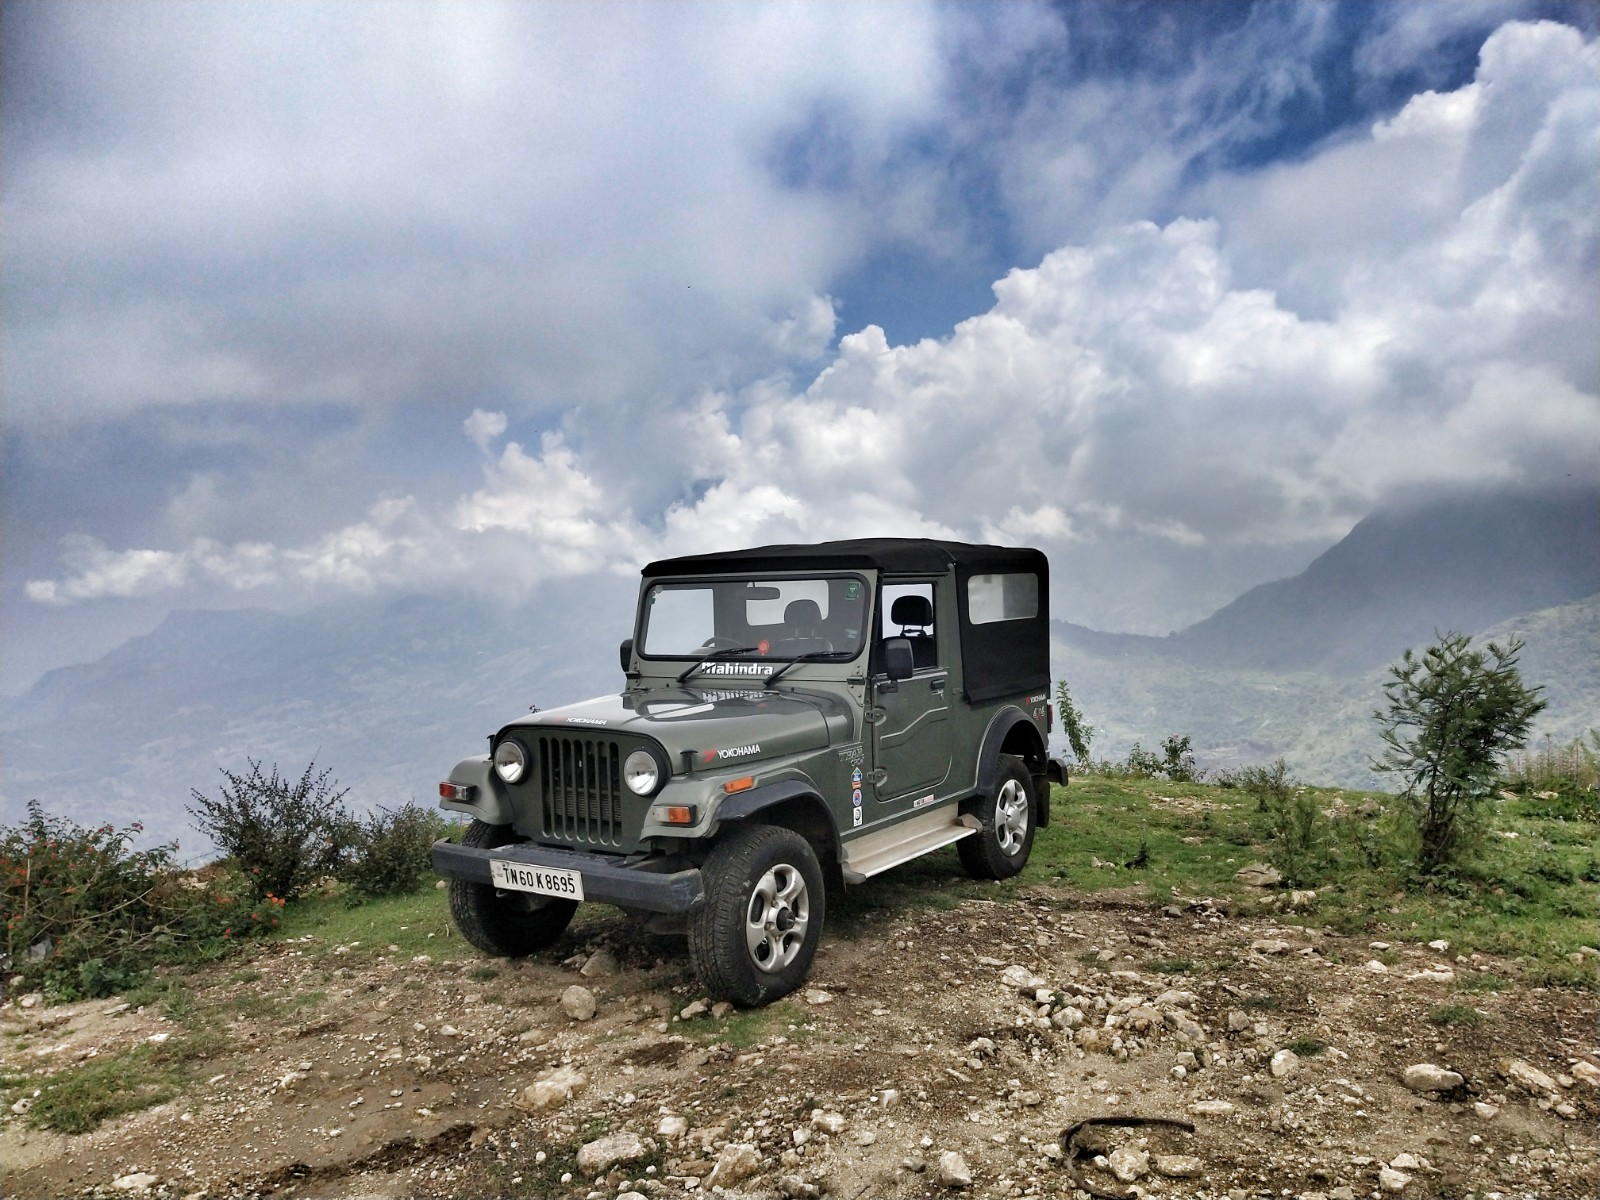Vehicle: (425, 518, 1097, 991)
